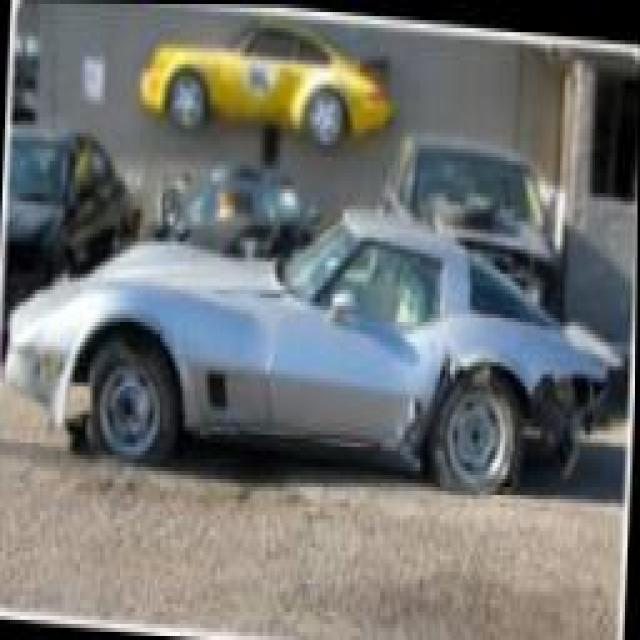Bumper: (510, 346, 611, 457)
Door: (370, 374, 423, 448)
